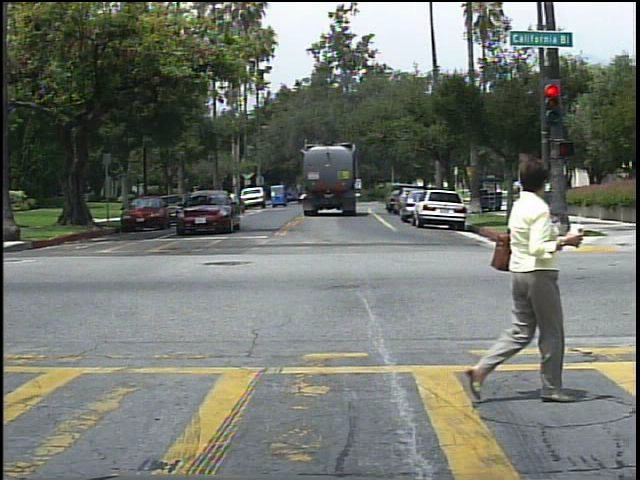person: (467, 137, 587, 409), (512, 180, 525, 199)
